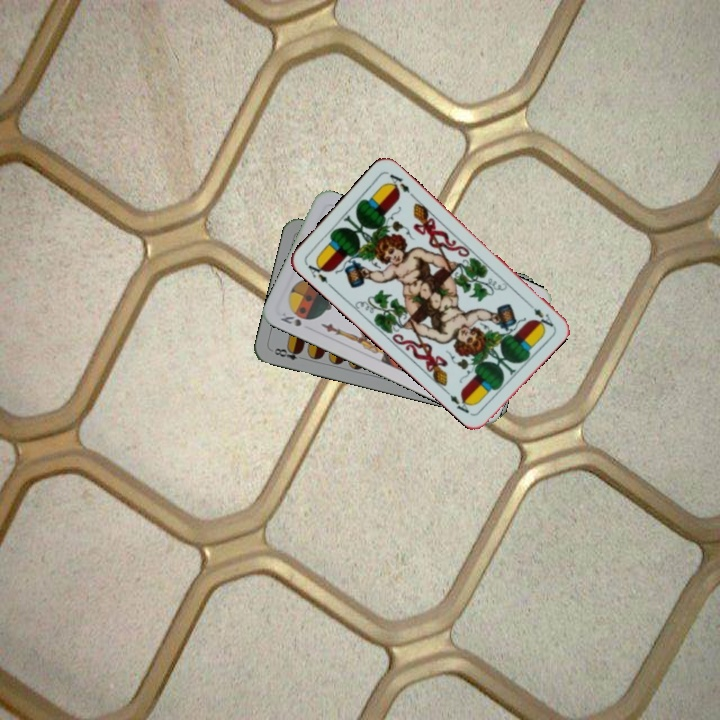E8: (268, 343, 308, 363)
EA: (302, 257, 335, 291), (523, 298, 556, 329)
SK: (276, 308, 304, 329)
